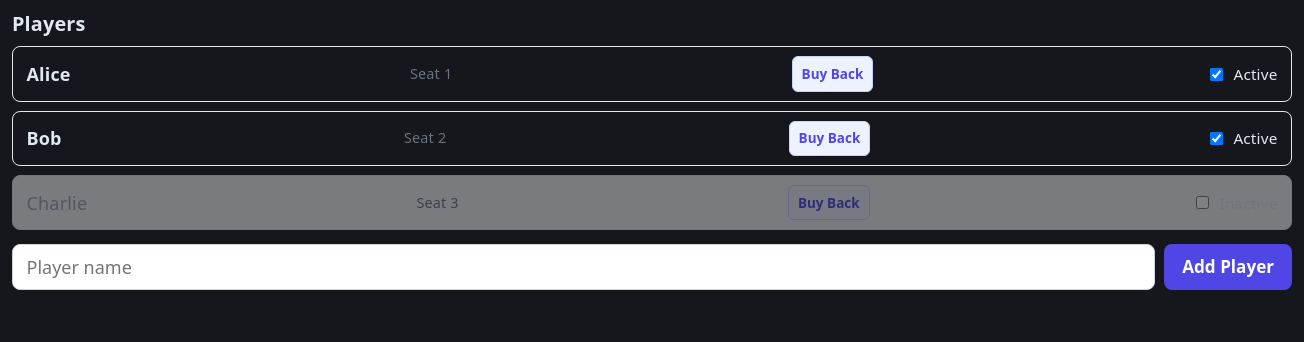
GamePlayerManagement › shows error for empty name
The image size is (1304, 342).
Expected: the text "Alice" is shown, [26,61,71,87]
Step 1. Click the button with test id "add-player-btn" → click(1228, 267), box [1164,244,1292,290]
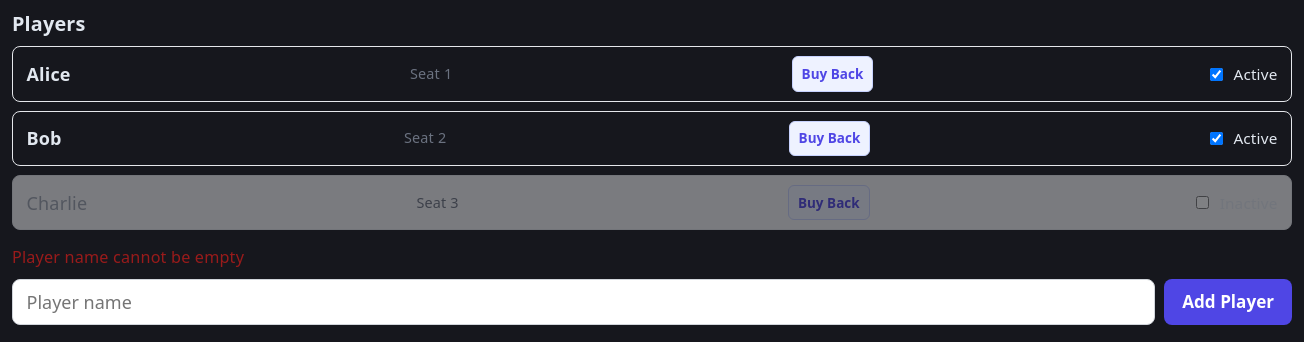
Result: the text "Player name cannot be empty" is shown at [12,246,244,268]
